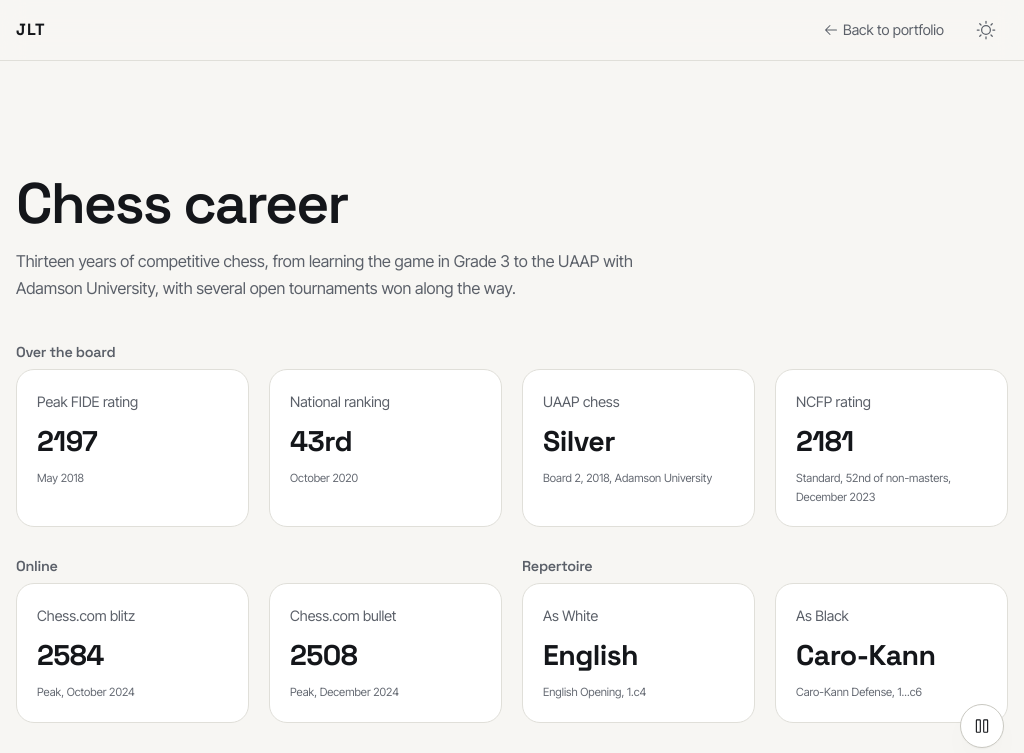
ChessCareer › lets the reader pause the slow scroll and start it again
Click the button named "pause auto-scroll" at (982, 726), box [960,704,1004,748]
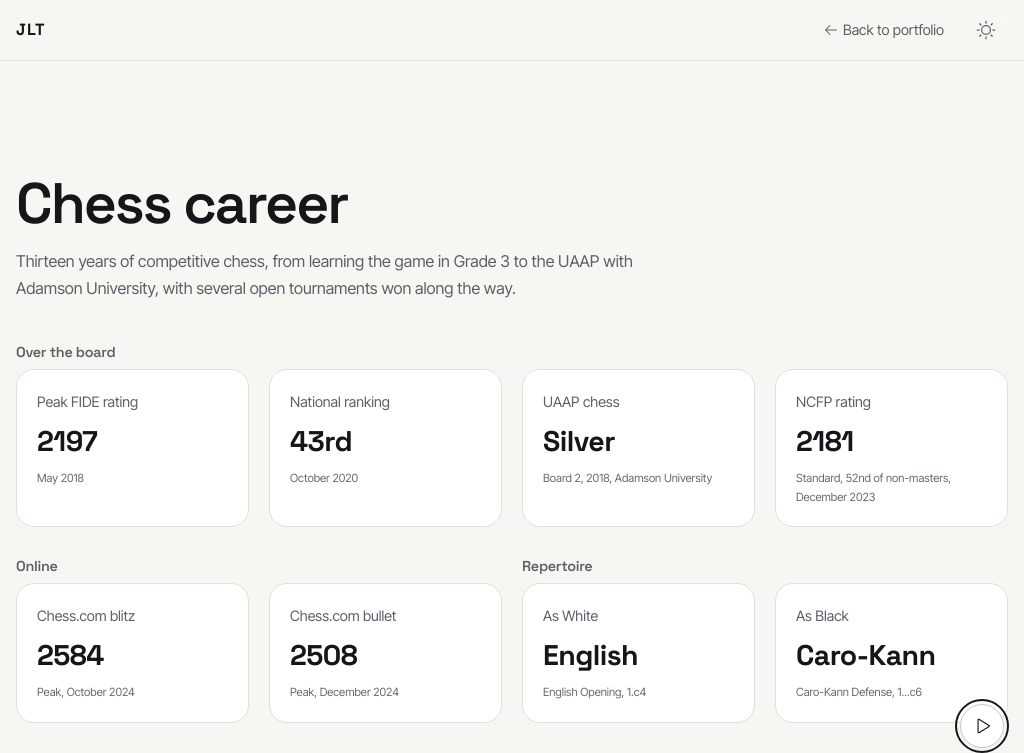
Click the button named "resume auto-scroll" at (982, 726), box [960,704,1004,748]
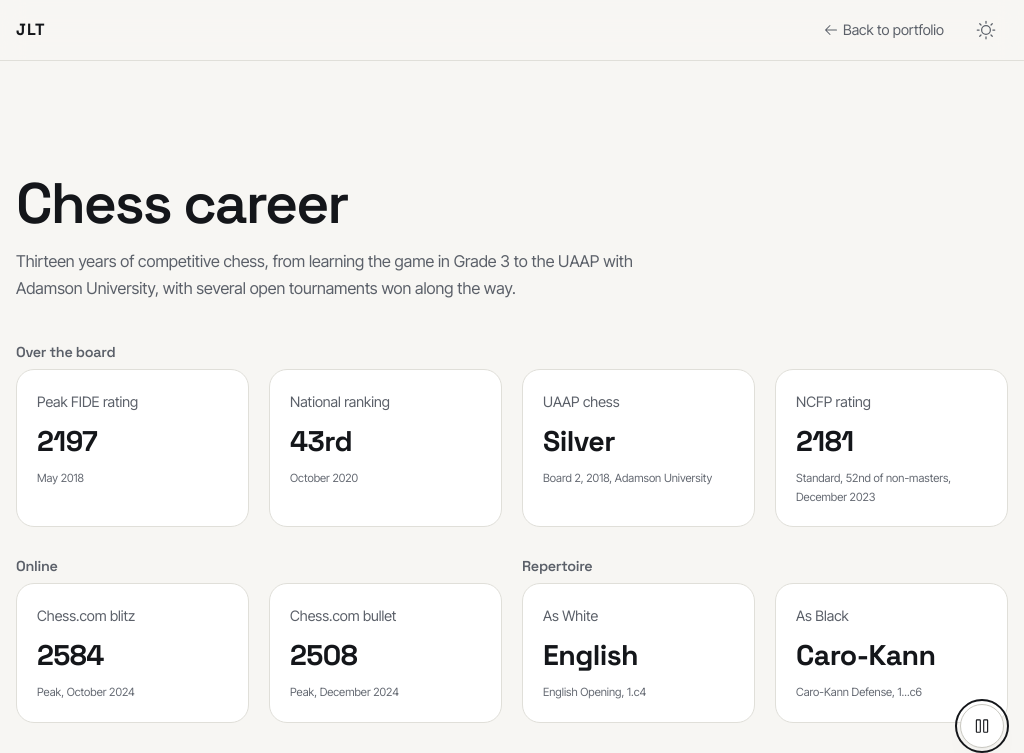
Check: the button named "pause auto-scroll" is shown, box [960,704,1004,748]
